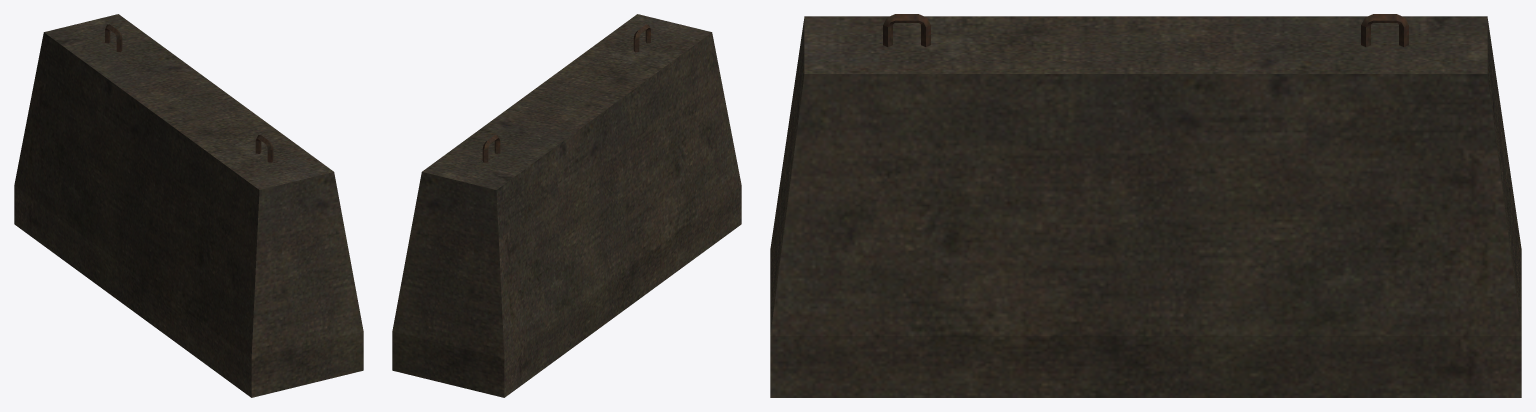
File: concrete_block_mx_1.dae
The picture shows the model from 3 angles, left to right: view 1: azimuth 30°, elevation 25°; view 2: azimuth 150°, elevation 25°; view 3: azimuth 270°, elevation 25°; orthographic projection. The views are drawn at different scales.
Visible parts, largest first — view 1: concrete_block_mx_1; view 2: concrete_block_mx_1; view 3: concrete_block_mx_1.
Boxes of the visible parts, x1,y1,x2,y2 form: concrete_block_mx_1: (14, 14, 363, 397); concrete_block_mx_1: (392, 14, 741, 397); concrete_block_mx_1: (770, 14, 1521, 397).
Size of the model in its own units: 0.6 by 2.2 by 1.1.
2 materials, 2 textured.
